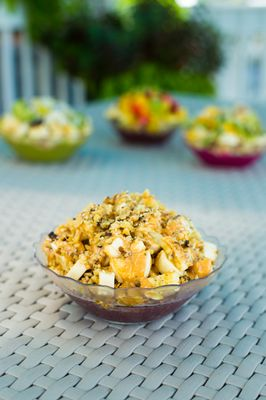sushi: (35, 188, 226, 324), (105, 91, 190, 141)
